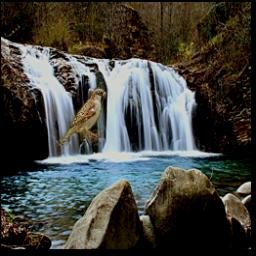Sparrow: (60, 88, 107, 146)
